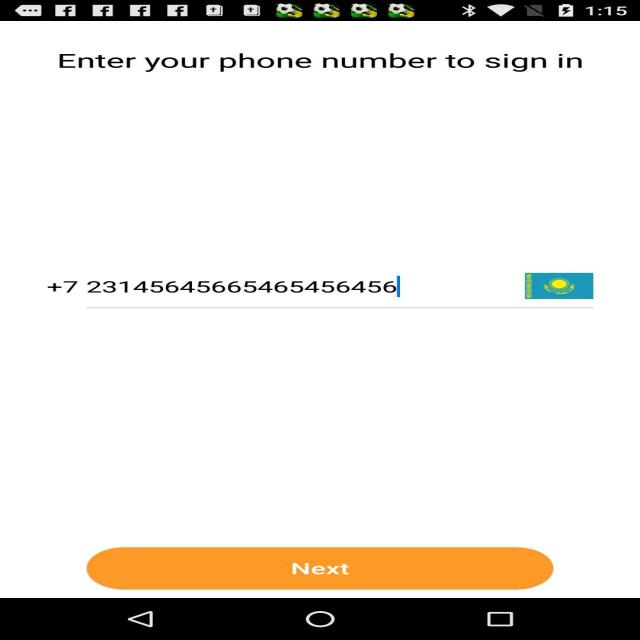button: (72, 531, 559, 597)
image: (523, 267, 598, 303)
text: (45, 48, 577, 79), (45, 277, 430, 299), (281, 558, 357, 584)
